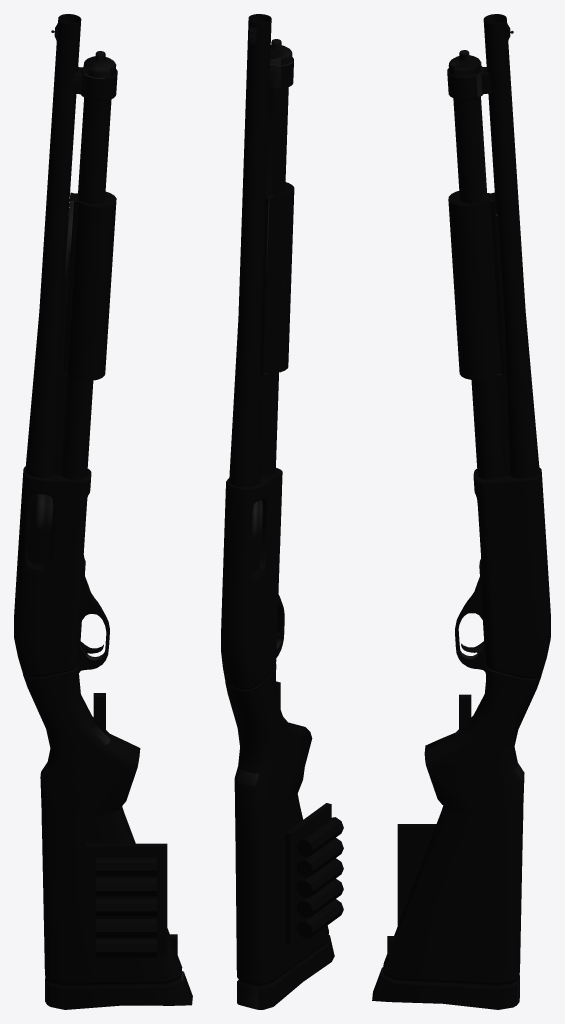
File: Rem870__ShellHolder_Butt__Stock_870_Folding.fbx
3 renders of one model, left to right at view 1: azimuth 90°, elevation 25°; view 2: azimuth 150°, elevation 25°; view 3: azimuth 270°, elevation 25°, orthographic.
Parts seen in each view (by area): view 1: asset_Rem870.001; view 2: asset_Rem870.001; view 3: asset_Rem870.001.
Boxes of the visible parts, x1,y1,x2,y2 form: asset_Rem870.001: (14,14,192,1009); asset_Rem870.001: (221,14,343,1009); asset_Rem870.001: (372,14,550,1009).
Size of the model in its own units: 0.0389 by 0.636 by 0.1048.
